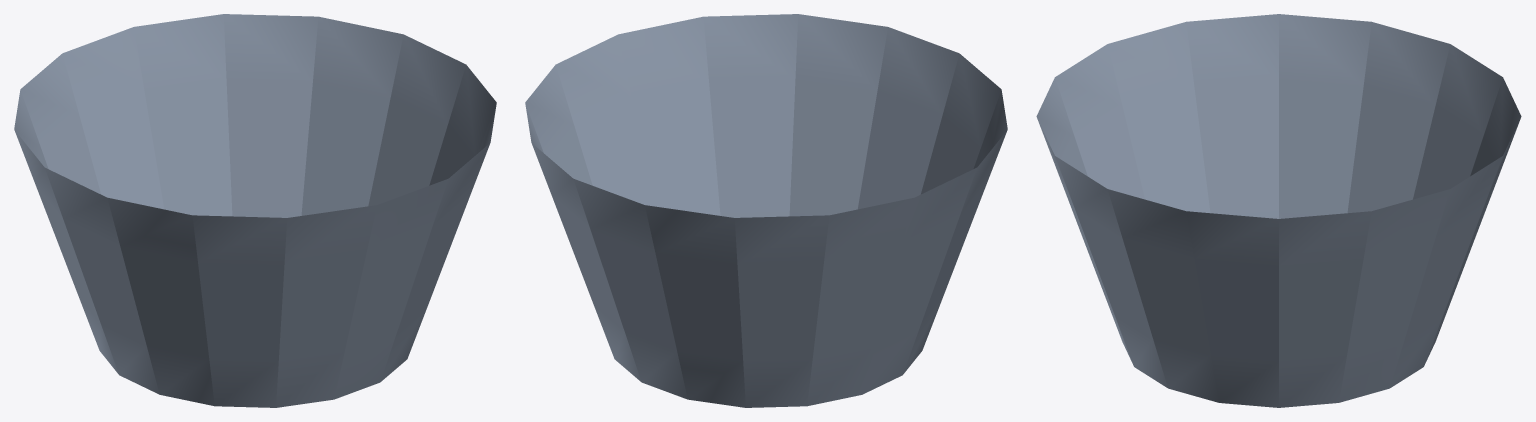
File: Rail Gun Muzzle Flash.fbx
The picture shows the model from 3 angles, left to right: view 1: azimuth 30°, elevation 25°; view 2: azimuth 150°, elevation 25°; view 3: azimuth 270°, elevation 25°; orthographic projection.
Visible parts, largest first — view 1: Impact_Mesh:Drop_Pod_Impact_Mesh; view 2: Impact_Mesh:Drop_Pod_Impact_Mesh; view 3: Impact_Mesh:Drop_Pod_Impact_Mesh.
Boxes of the visible parts, x1=… form: Impact_Mesh:Drop_Pod_Impact_Mesh: x1=14, y1=14, x2=496, y2=407; Impact_Mesh:Drop_Pod_Impact_Mesh: x1=525, y1=14, x2=1007, y2=407; Impact_Mesh:Drop_Pod_Impact_Mesh: x1=1036, y1=14, x2=1521, y2=407.
Size of the model in its own units: 7.81 by 4 by 7.81.
